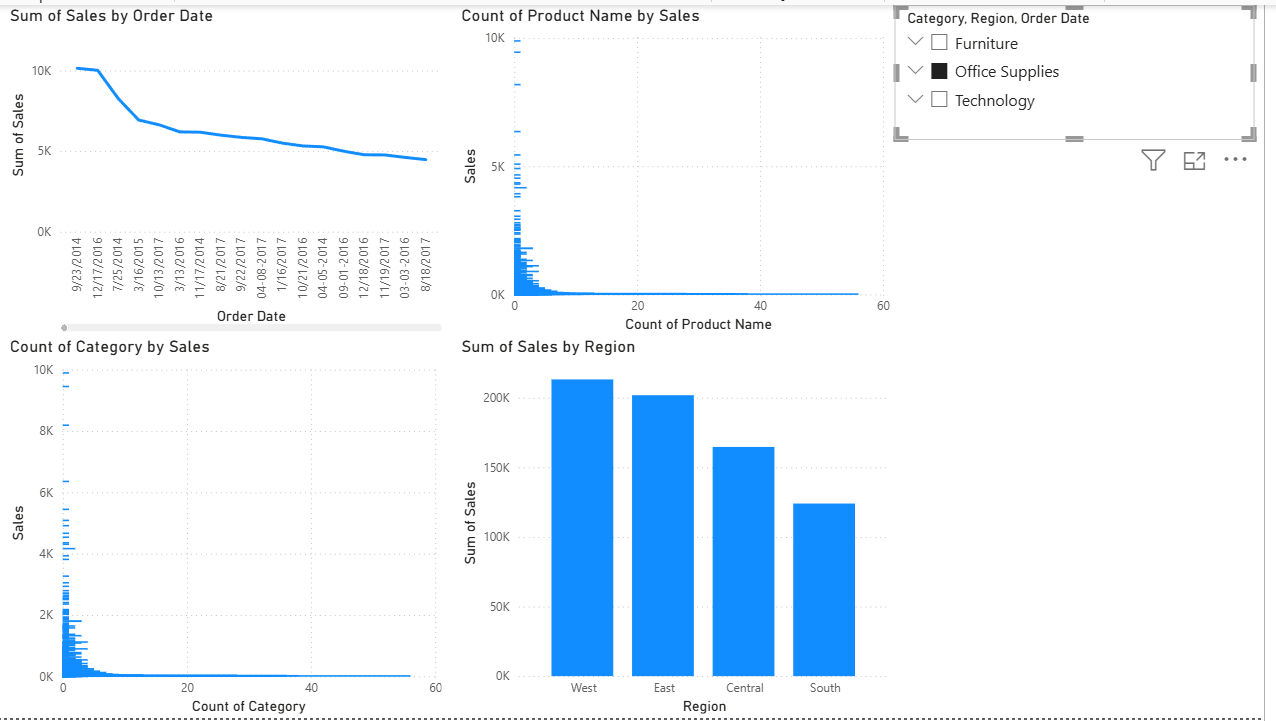

This screenshot's page, from the dashboard's own definition file:
{"tool":"powerbi","page":{"name":"Page 1","canvas":[1280,720],"ordinal":0},"visuals":[{"type":"lineChart","fields":{"Category":["project superstore.Order Date"],"Y":["Sum(project superstore.Sales)"]},"box":[9.4,0,446,334.5],"z":0},{"type":"clusteredBarChart","fields":{"Category":["project superstore.Sales"],"Y":["CountNonNull(project superstore.Category)"]},"box":[9.4,334.5,446,385.5],"z":1},{"type":"columnChart","fields":{"Category":["project superstore.Sales"],"Y":["CountNonNull(project superstore.Product Name)"]},"box":[464.9,0,521.6,334.5],"z":2},{"type":"columnChart","fields":{"Y":["Sum(project superstore.Sales)"],"Category":["project superstore.Region"]},"box":[464.9,334.5,442.2,385.5],"z":3},{"type":"slicer","fields":{"Values":["project superstore.Category","project superstore.Region","project superstore.Order Date"]},"box":[907.1,0,362.8,136.1],"z":4}]}

Visuals, with their boxes in screenshot pixels (x1, y1, x2, y2), scaled from the page's 1280x720 canvas onto the 1276x721 screenshot:
lineChart - project superstore.Order Date x Sum(project superstore.Sales): (9, 0, 454, 335)
clusteredBarChart - project superstore.Sales x CountNonNull(project superstore.Category): (9, 335, 454, 720)
columnChart - project superstore.Sales x CountNonNull(project superstore.Product Name): (463, 0, 983, 335)
columnChart - Sum(project superstore.Sales) x project superstore.Region: (463, 335, 904, 720)
slicer - project superstore.Category x project superstore.Region: (904, 0, 1266, 136)
